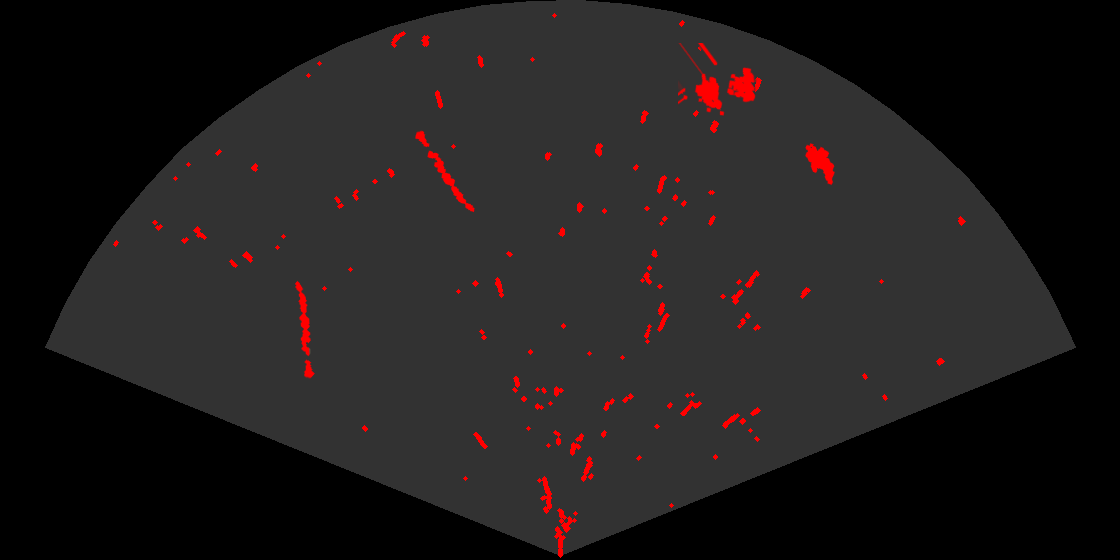AUV: (804, 142, 836, 186)
cage: (678, 43, 757, 117)
chain: (414, 129, 476, 214), (294, 279, 316, 379)
